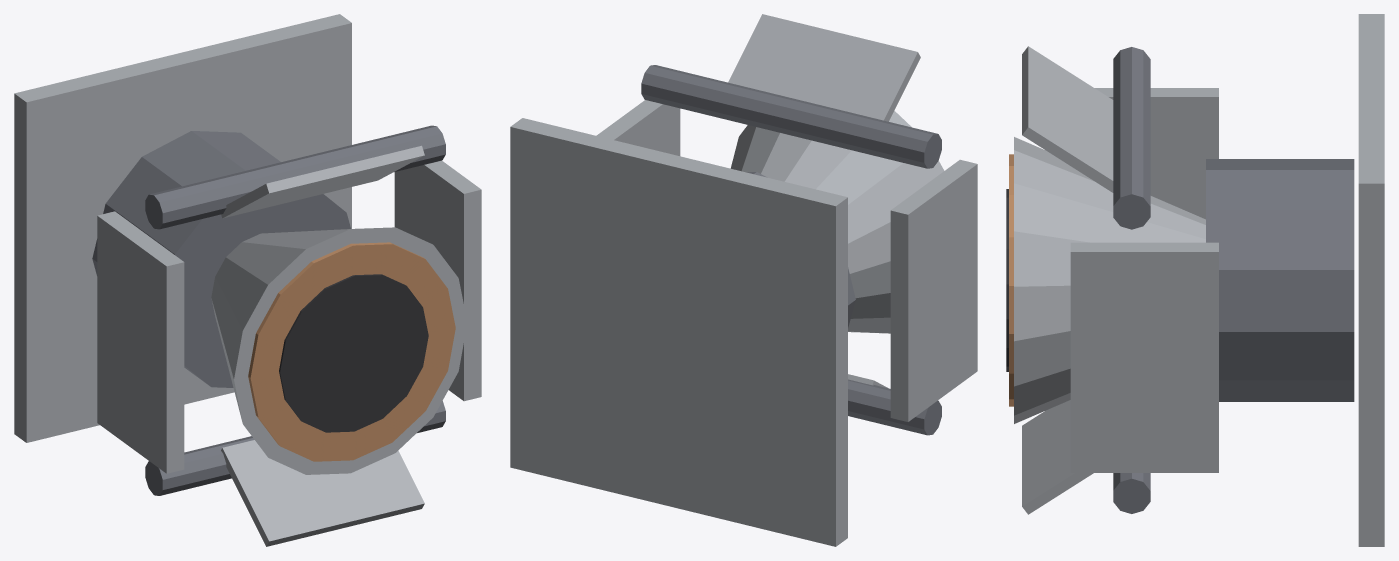
The model's file is shell_paddle.glb.
3 views of the same model, side by side, from view 1: azimuth 30°, elevation 25°; view 2: azimuth 150°, elevation 25°; view 3: azimuth 270°, elevation 25° (orthographic). The views are drawn at different scales.
Bounding box in the file's own units: 0.92 × 0.9811 × 0.868.
